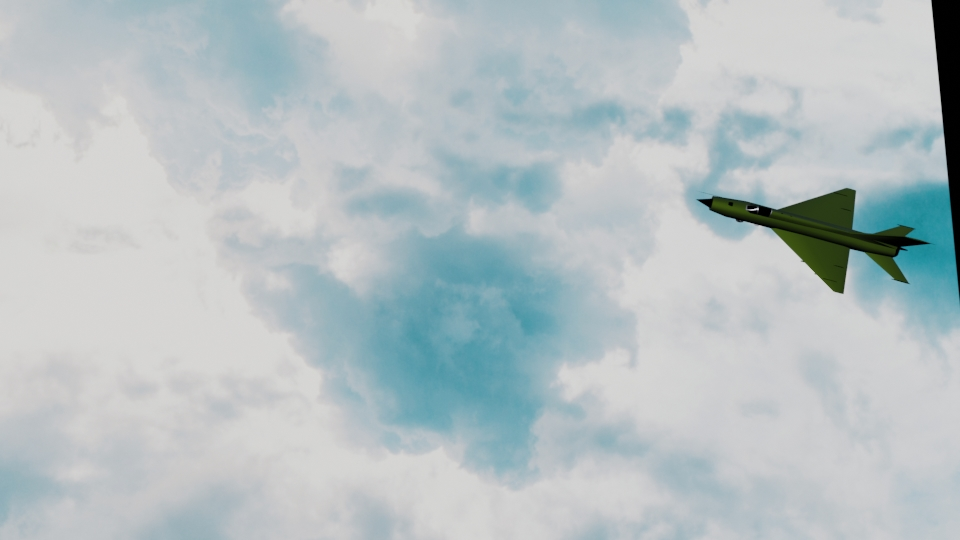plane: (696, 190, 931, 295)
